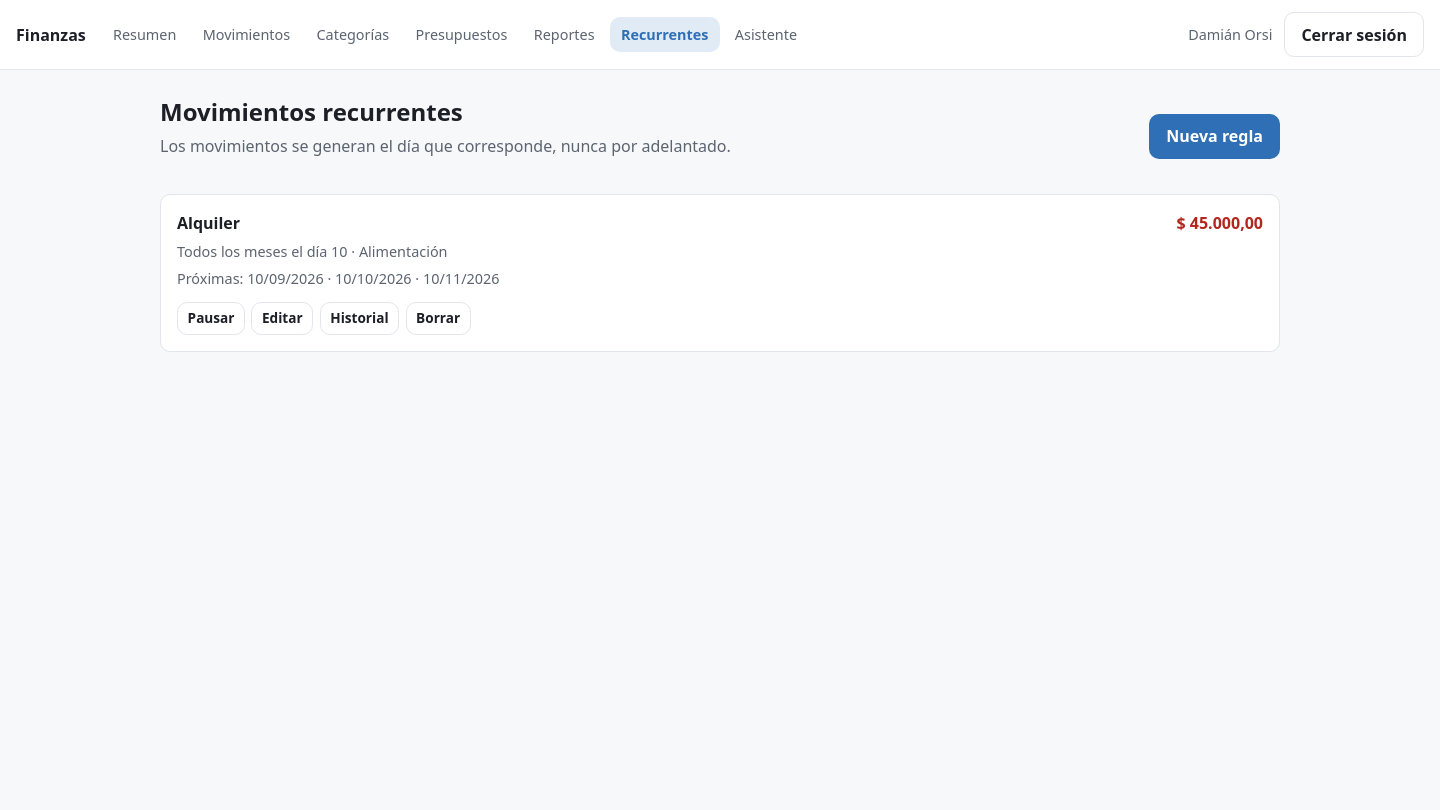
Scenario: RecurringPage: alta › muestra el error del backend si la categoría no corresponde al tipo
The image size is (1440, 810).
Click the button "Nueva regla".
click(1215, 136)  # box [1149,114,1280,159]
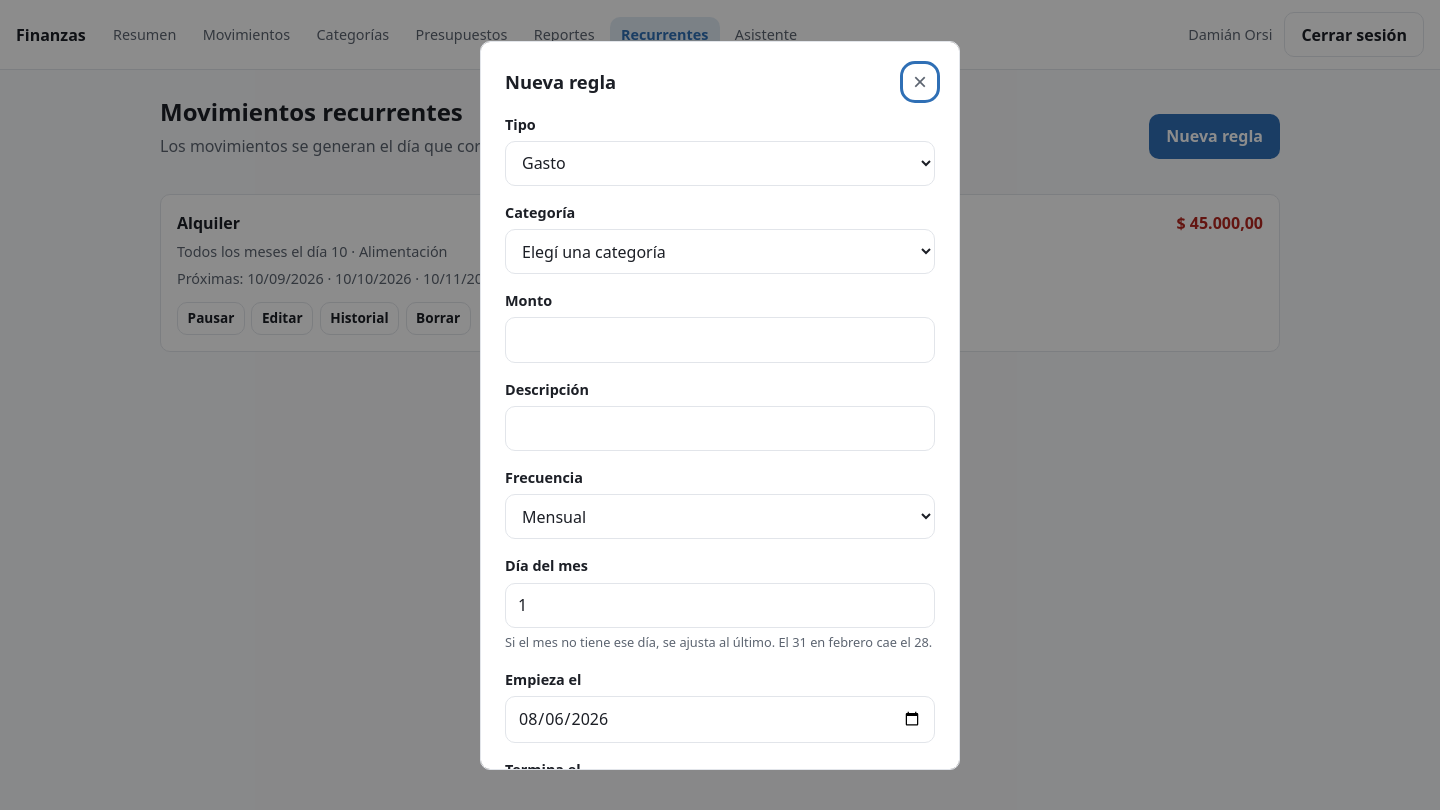
Select "Alimentación" in the dropdown labelled "Categoría" at point(720, 252), box [505,229,935,274]
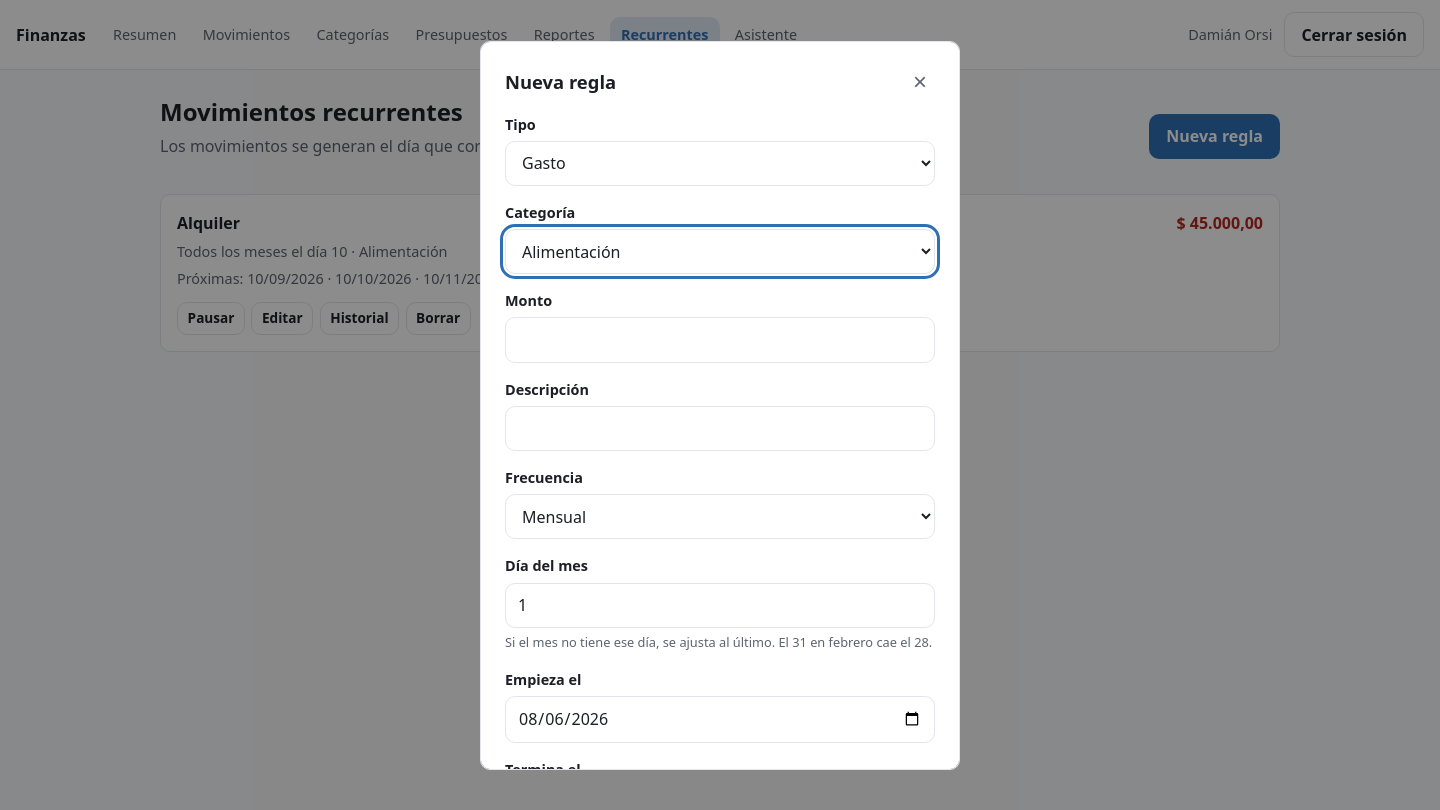
Type "1000" into the number field labelled "Monto".
click(720, 340); type("1000")  # box [505,318,935,363]
(page scrolled)
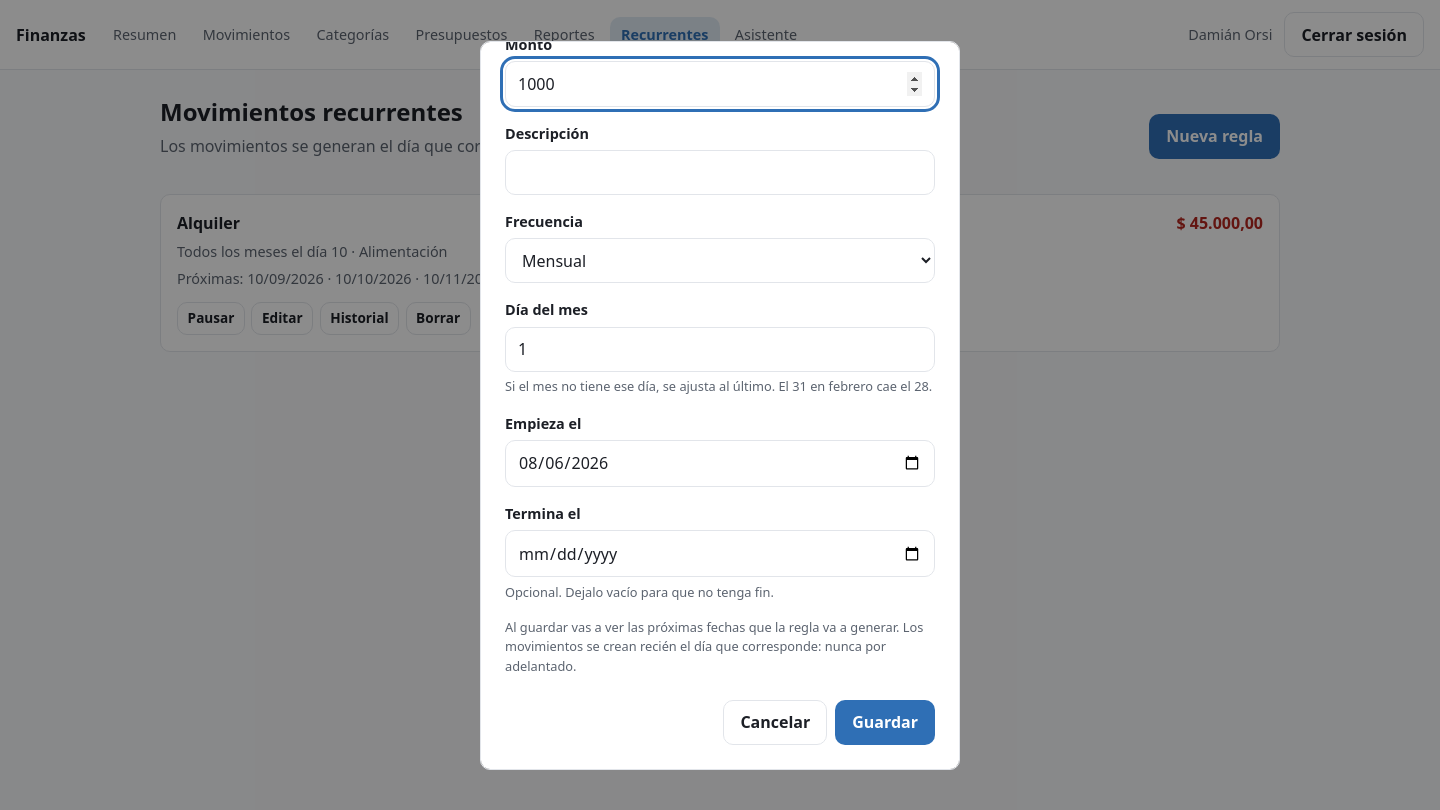
Click the button "Guardar".
click(885, 722)  # box [835,700,935,745]
(page scrolled)
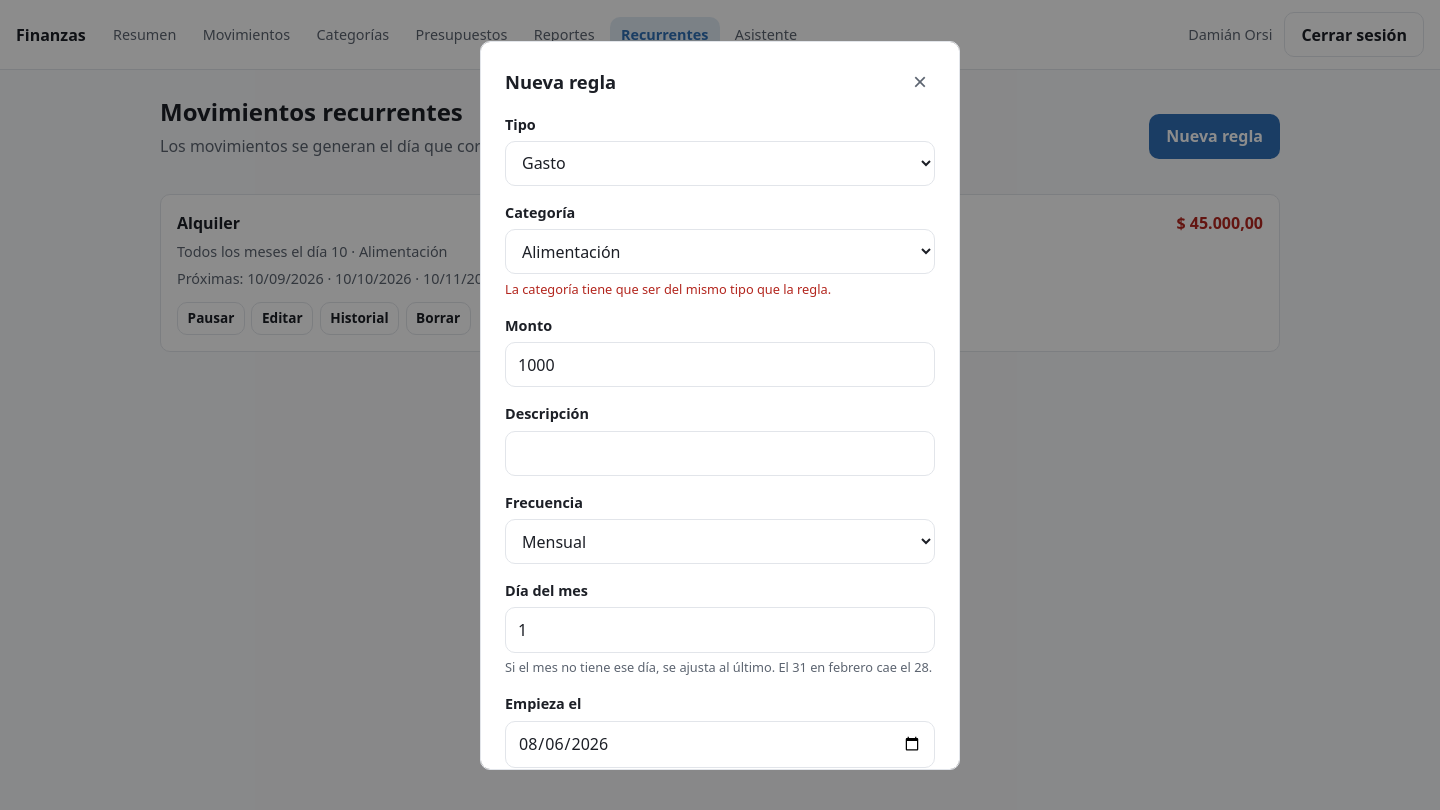
Expected: the text "La categoría tiene que ser del mismo tipo que la regla." is shown, [505,280,831,298]
